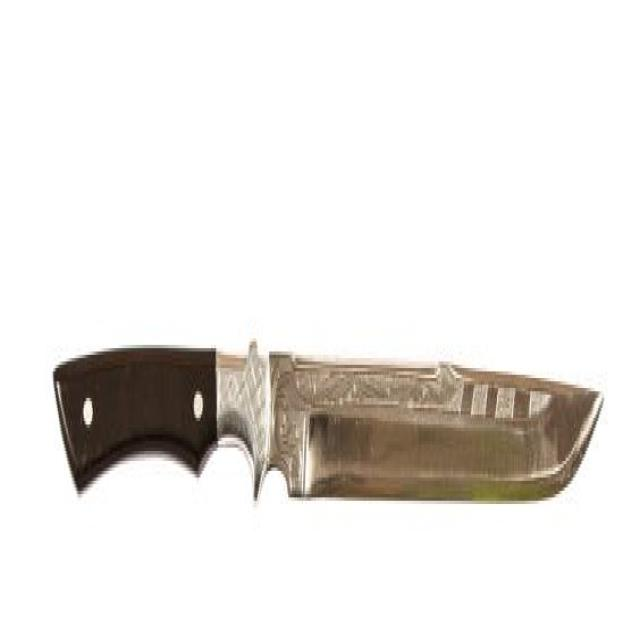knife: (49, 315, 608, 542)
